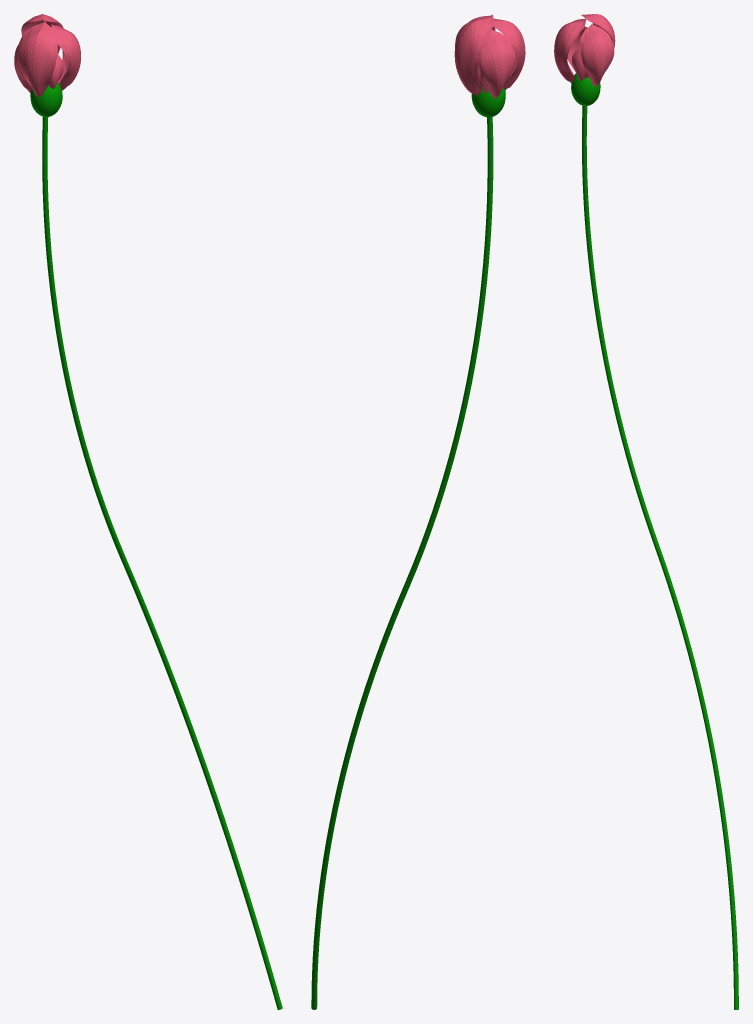
The model's file is Lotus002.fbx.
3 views of the same model, side by side, from view 1: azimuth 30°, elevation 25°; view 2: azimuth 150°, elevation 25°; view 3: azimuth 330°, elevation 25° (orthographic). The views are drawn at different scales.
Visible parts, largest first — view 1: pCylinder5, nurbsToPoly11, nurbsToPoly24, pSphere4; view 2: pCylinder5, nurbsToPoly10, nurbsToPoly12, nurbsToPoly11, pSphere4; view 3: pCylinder5, nurbsToPoly24, nurbsToPoly11, pSphere4.
Part boxes in pixels (box(x1,y1,x2,y2)): pCylinder5: box(42, 116, 282, 1009); nurbsToPoly11: box(17, 21, 57, 97); nurbsToPoly24: box(51, 24, 80, 90); pSphere4: box(30, 82, 62, 116); pCylinder5: box(311, 117, 493, 1009); nurbsToPoly10: box(454, 14, 493, 95); nurbsToPoly12: box(478, 29, 516, 99); nurbsToPoly11: box(493, 18, 525, 90); pSphere4: box(471, 87, 505, 117); pCylinder5: box(582, 105, 738, 1009); nurbsToPoly24: box(580, 24, 614, 87); nurbsToPoly11: box(554, 19, 586, 82); pSphere4: box(571, 73, 600, 105).
Bounding box in the file's own units: 49.14 × 207 × 19.86.
